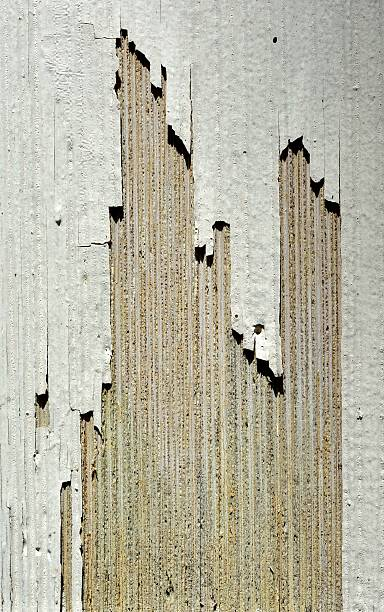wall_peeling: (34, 28, 345, 612)
